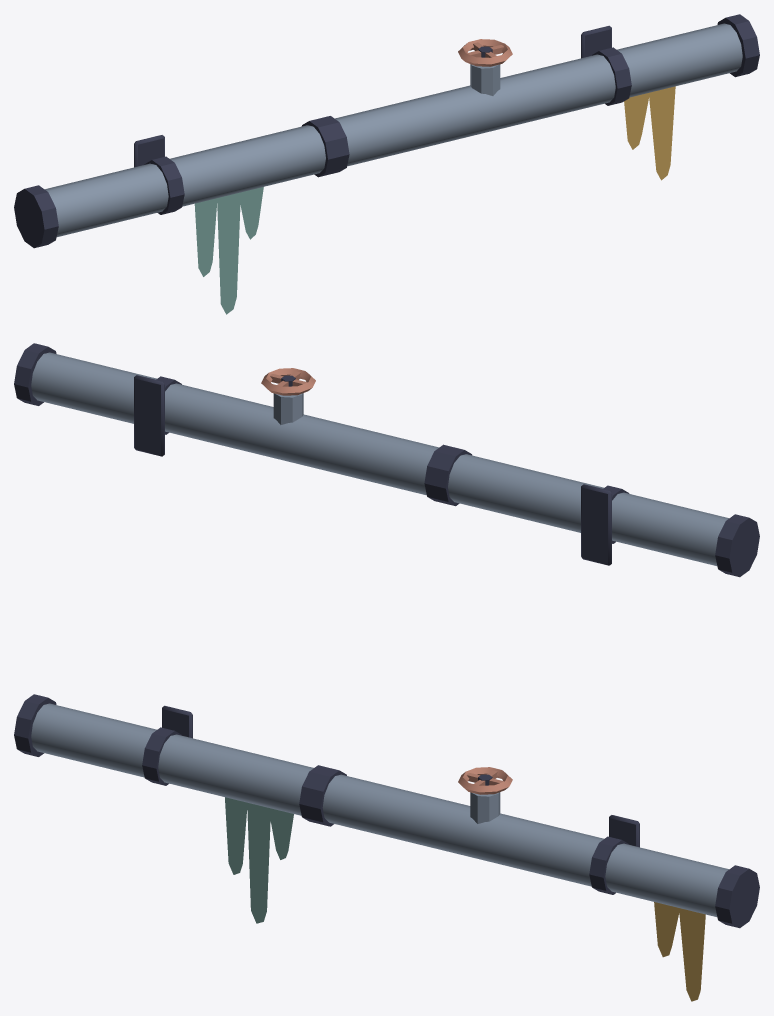
Rendered from prop_pipe_run.glb.
3 renders of one model, top to bottom at view 1: azimuth 30°, elevation 25°; view 2: azimuth 150°, elevation 25°; view 3: azimuth 330°, elevation 25°, orthographic.
Parts seen in each view (by area): view 1: PipeRunMesh; view 2: PipeRunMesh; view 3: PipeRunMesh.
Part boxes in pixels (bbox=[...]): PipeRunMesh: bbox=[14, 14, 759, 314]; PipeRunMesh: bbox=[14, 343, 759, 577]; PipeRunMesh: bbox=[14, 694, 759, 1001].
Bounding box in the file's own units: 4 × 1.16 × 0.298.
